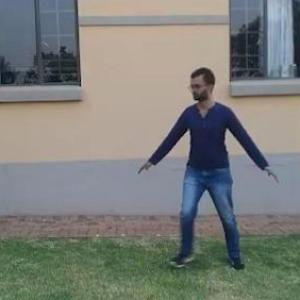land: (146, 72, 276, 244)
